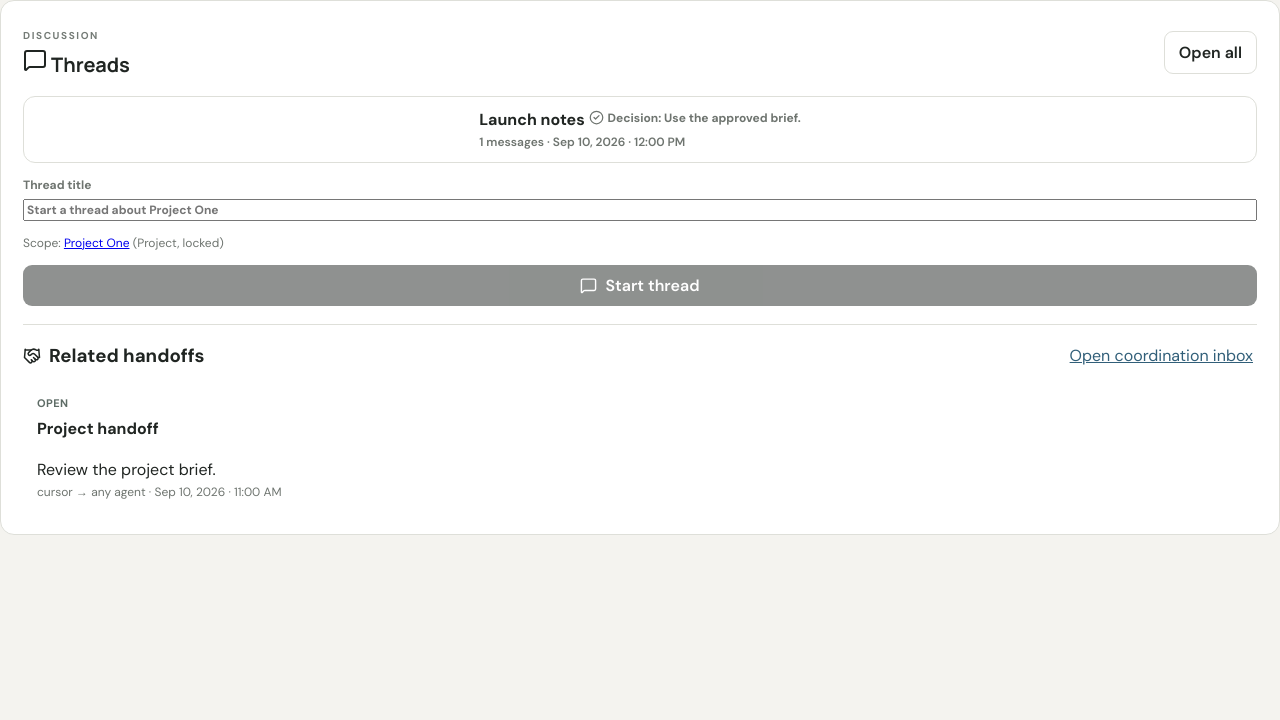
Test: DiscussionPanel › loads only the bound subject threads and handoffs, then keeps an inline reply visible
The width and height of the screenshot is (1280, 720).
Expected: the text "Launch notes" is shown, [479,109,585,130]
Expected: the text "Decision: Use the approved brief." is shown, [588,110,801,126]
Click the button "Launch notes" at (532, 120), box [23,96,1257,163]
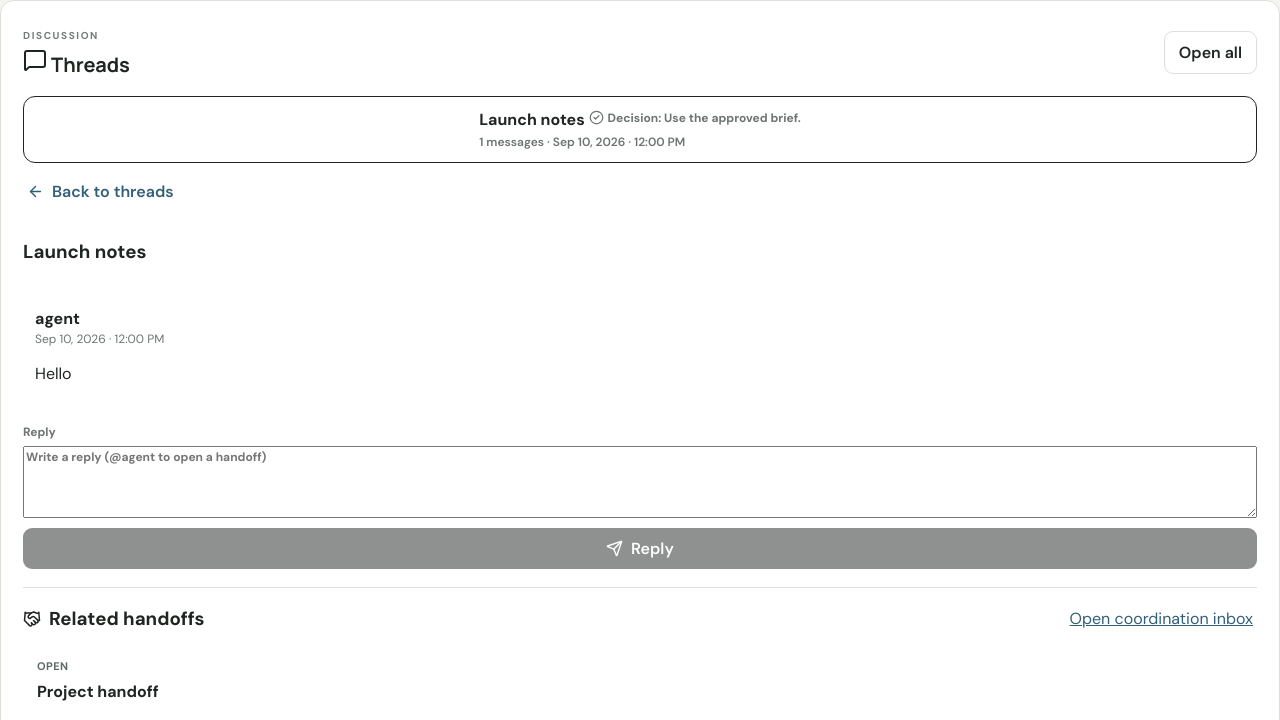
Expected: the text "Hello" is shown, [35,363,72,384]
Type "Reply" into the text box labelled "Reply" at (640, 482), box [23,446,1257,518]
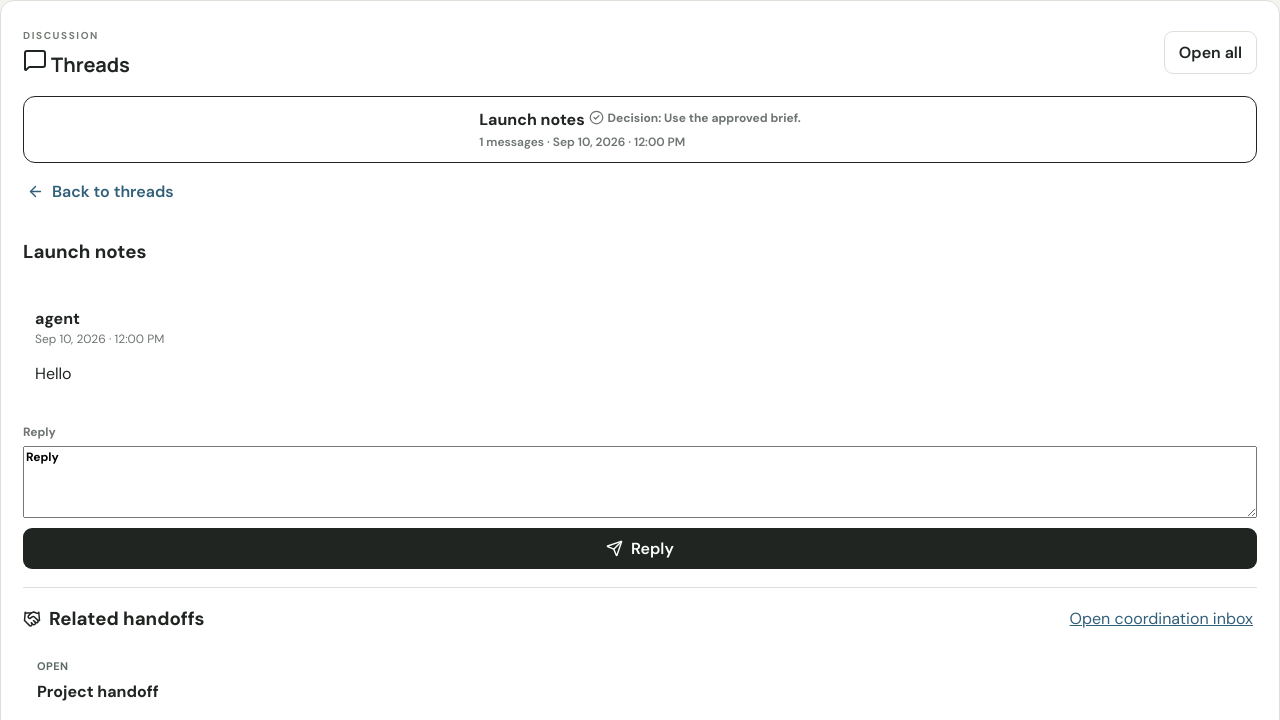
Click the button "Reply" at (640, 549), box [23,528,1257,569]
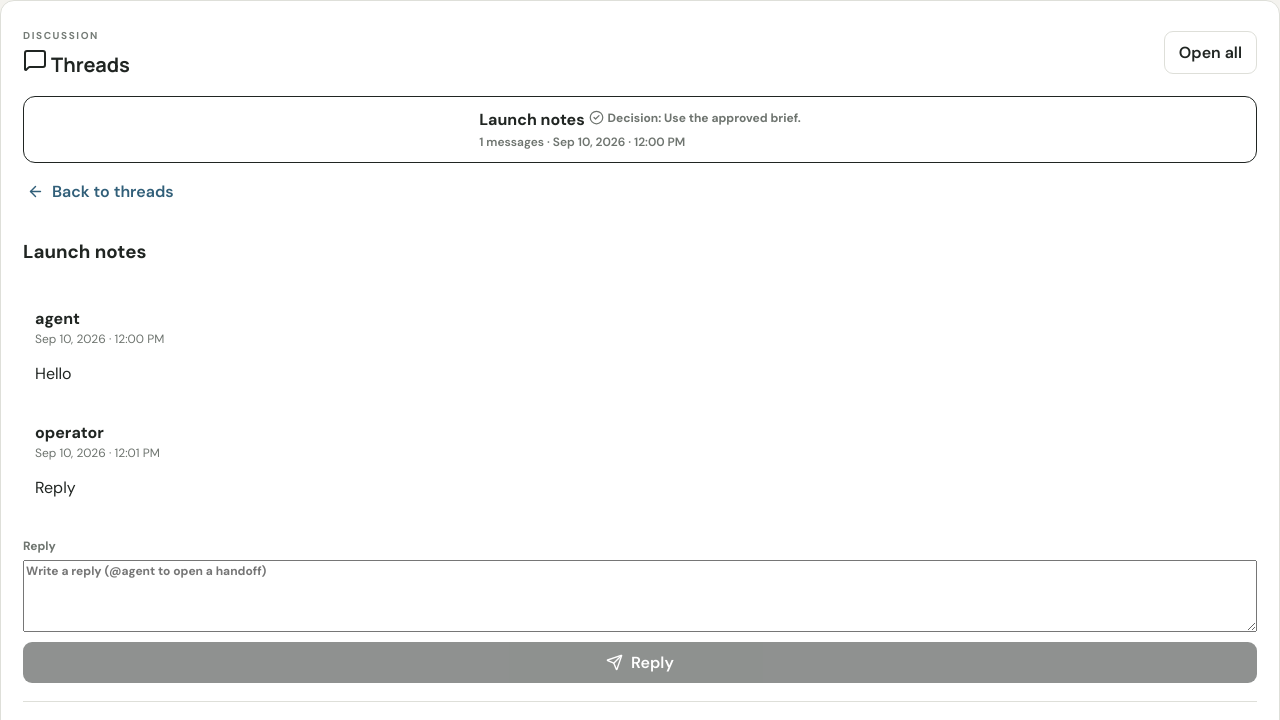
Expected: the text "Reply" is shown, [35,477,76,498]
Click the button "Back to threads" at (100, 192), box [23,177,178,206]
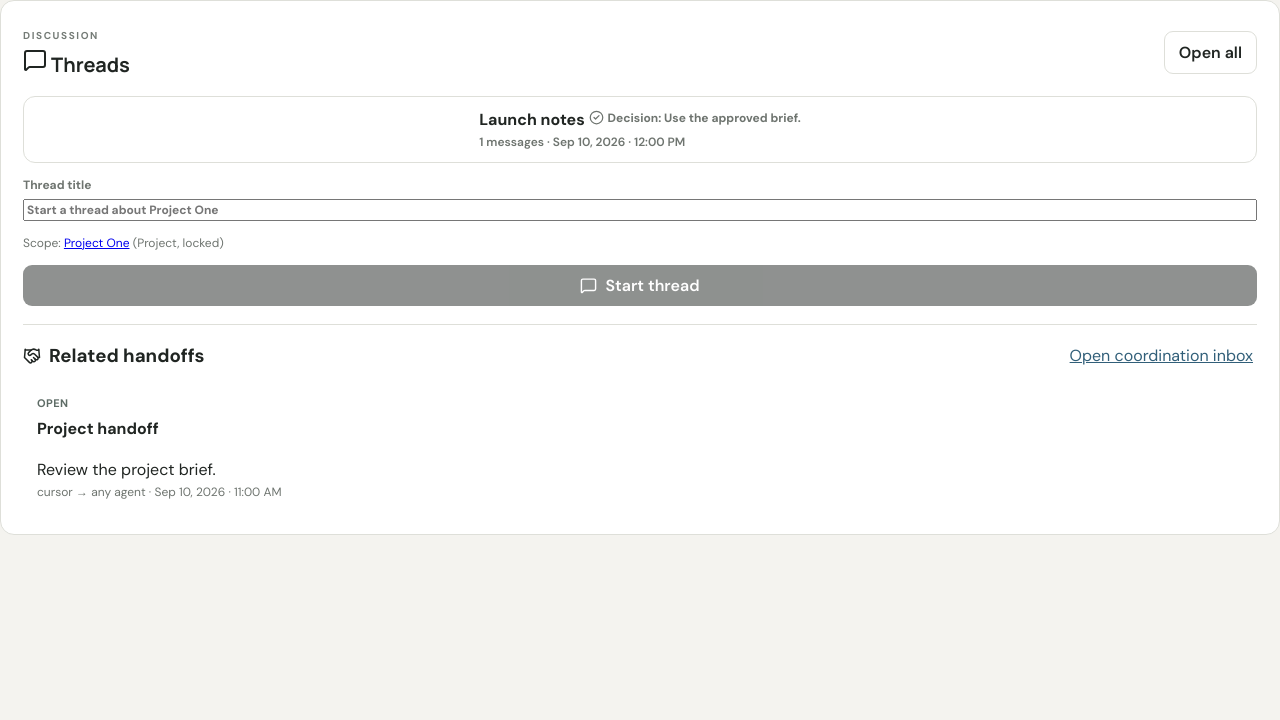
Expected: the field labelled "Thread title" is shown, [23,199,1257,221]
